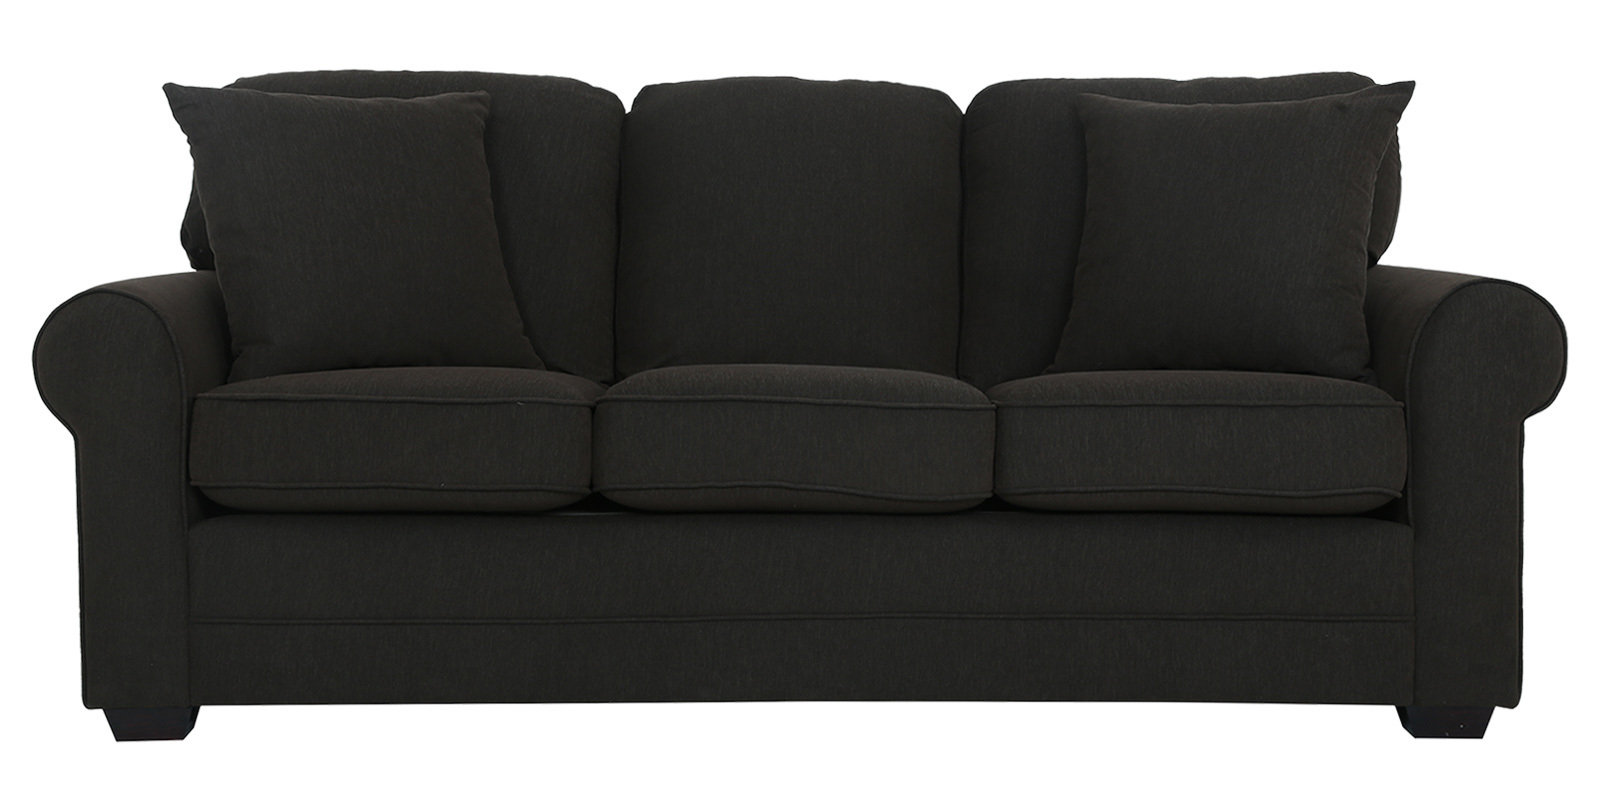Madeira Three Seater Sofa in Chestnut Brown Colour by CasaCraft: (30, 67, 1570, 741)
